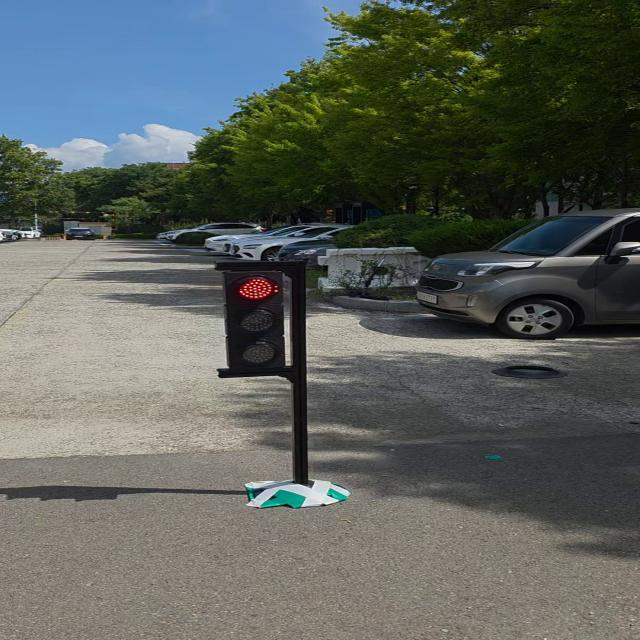red: (221, 265, 287, 374)
